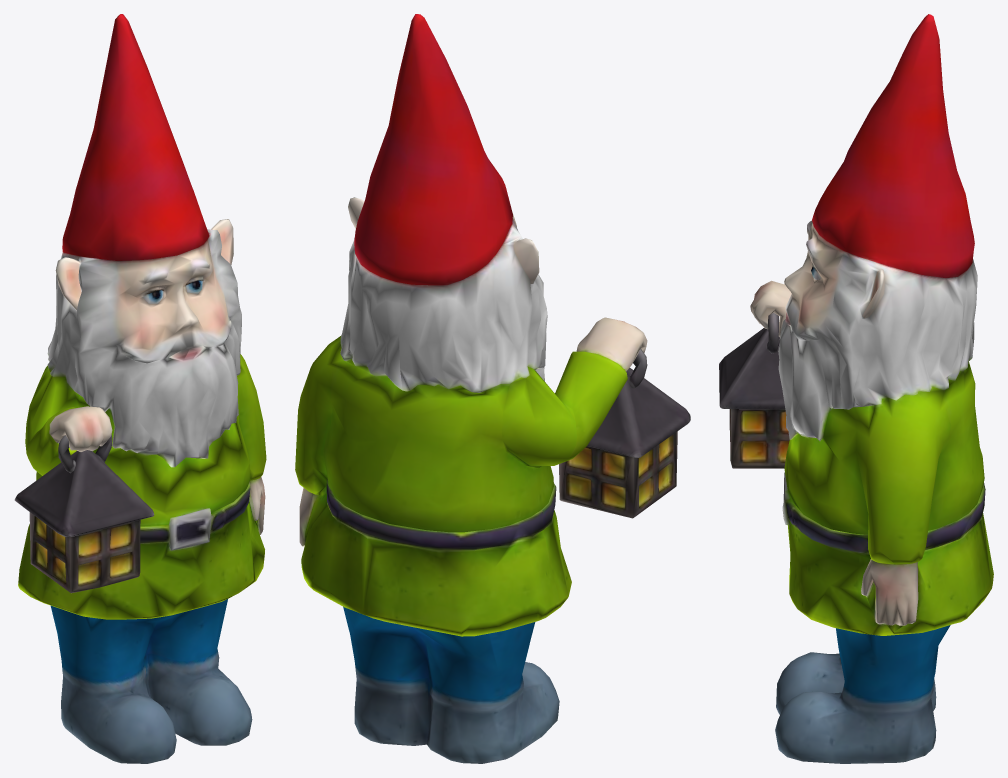
The model's file is garden_gnome.glb.
The picture shows the model from 3 angles, left to right: view 1: azimuth 30°, elevation 25°; view 2: azimuth 150°, elevation 25°; view 3: azimuth 270°, elevation 25°; orthographic projection. The views are drawn at different scales.
Parts seen in each view (by area): view 1: garden_gnome; view 2: garden_gnome; view 3: garden_gnome.
Boxes of the visible parts, bbox=[...] form: garden_gnome: bbox=[14, 14, 266, 763]; garden_gnome: bbox=[295, 14, 690, 763]; garden_gnome: bbox=[719, 14, 993, 763].
Bounding box in the file's own units: 0.2574 × 0.5985 × 0.2092.
Materials: 1 (1 with a texture image).
